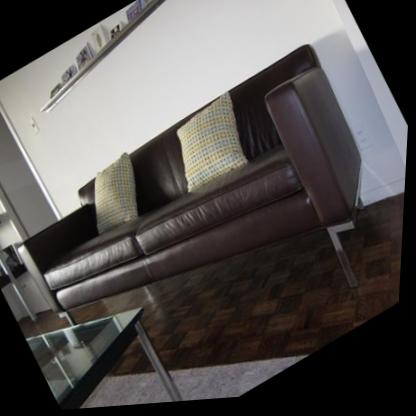Sofa: (26, 50, 362, 327)
